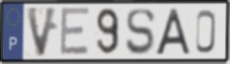0: (195, 9, 217, 54)
9: (95, 6, 121, 58)
A: (154, 7, 193, 56)
E: (59, 6, 91, 58)
S: (125, 7, 157, 57)
V: (24, 5, 60, 59)
